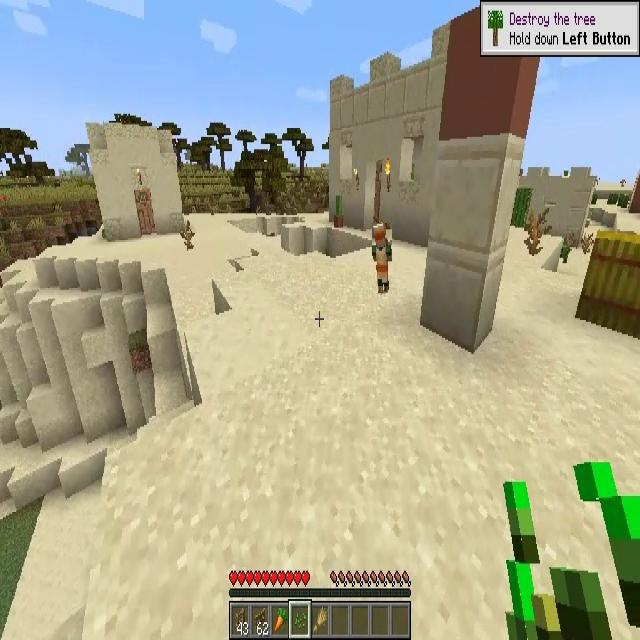people: (372, 223, 392, 293)
